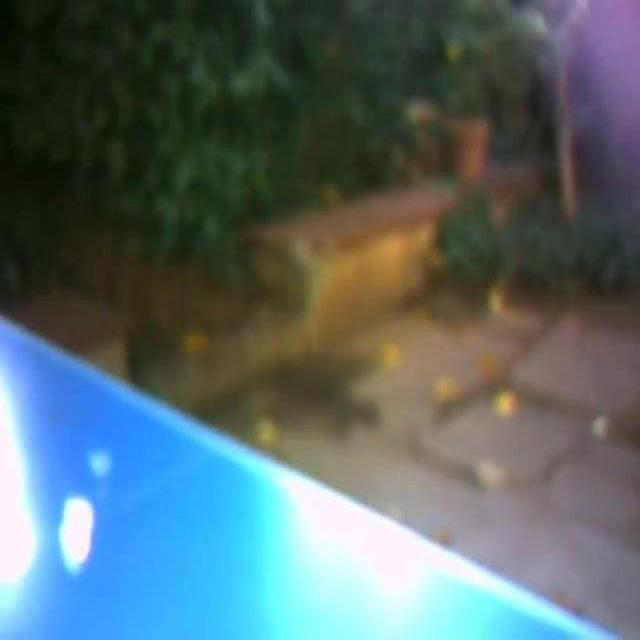other: (0, 368, 60, 619)
